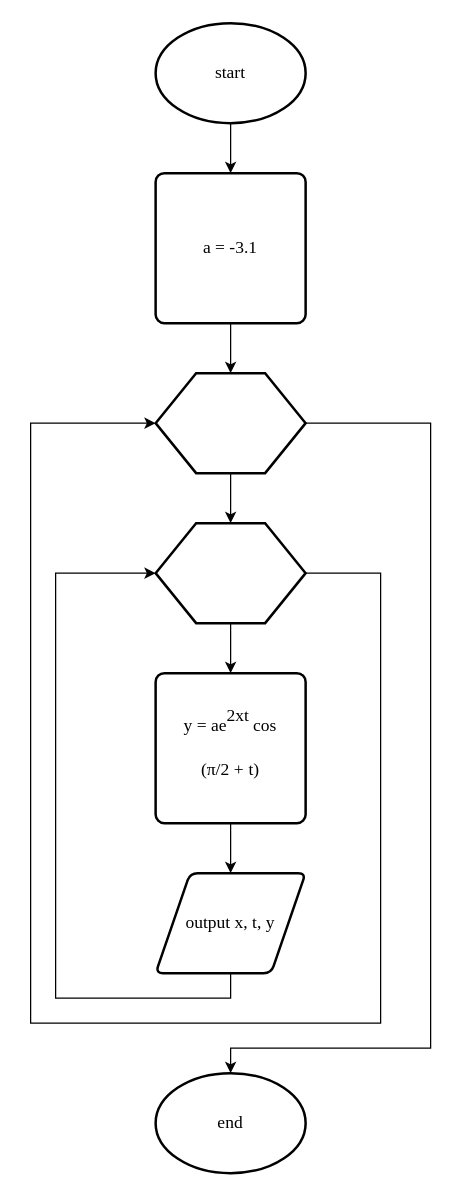
Image size: 463x1195. Some labels were removed from this diagram. Each missing label, with the centre of its shape:
"t = 0; t ≤ π/2; t += 0.3" goes at (x=230, y=572).
"x = 0; x ≤ 1 ; x += 0.1" goes at (x=230, y=422).
